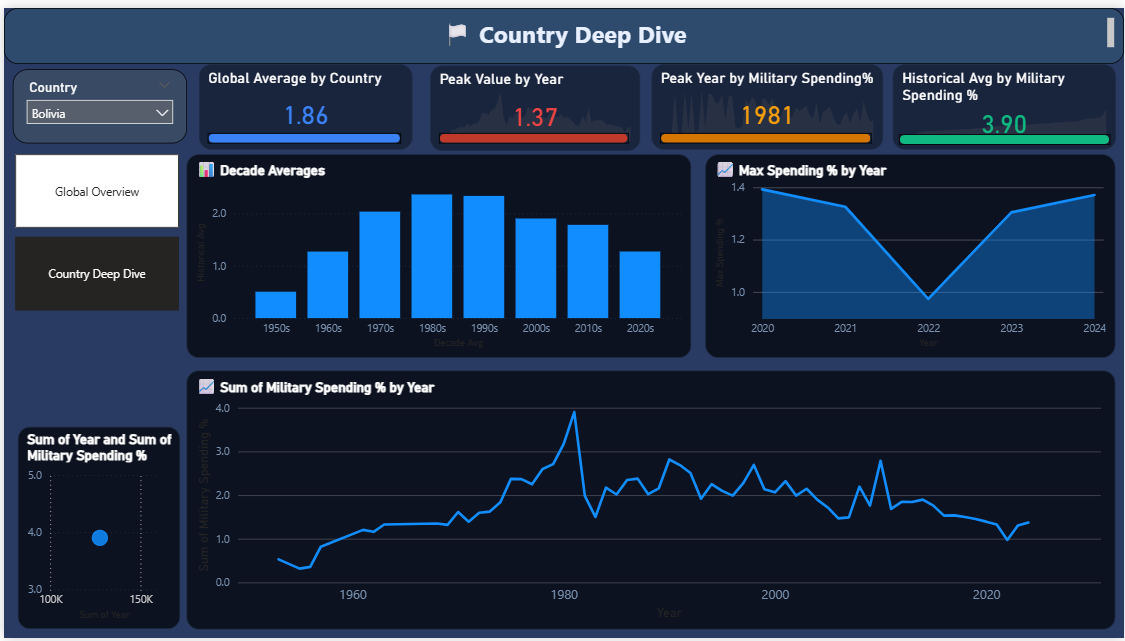

Layout of this report page (visuals, bound fields, positions):
{"tool":"powerbi","page":{"name":"Country Deep Dive","canvas":[1280,720],"ordinal":1},"visuals":[{"type":"textbox","box":[0,0,1280,64.3],"z":0},{"type":"kpi","fields":{"Indicator":["ap.Global Average"],"TrendLine":["ap.Country"]},"box":[222.3,64.5,244.3,97.4],"z":1000},{"type":"lineChart","title":"📈   Sum of Military Spending % by Year ","fields":{"Category":["ap.Year"],"Y":["Sum(ap.Military Spending %)"]},"box":[208.6,414.3,1061.4,296],"z":2000},{"type":"slicer","fields":{"Values":["ap.Country"]},"box":[13.3,71.2,199.1,85.7],"z":3000},{"type":"kpi","fields":{"Indicator":["ap.Peak Value"],"TrendLine":["ap.Year"]},"box":[487.1,65.9,240.1,97.4],"z":4000},{"type":"kpi","fields":{"Indicator":["ap.Historical Avg"],"TrendLine":["ap.Military Spending %"]},"box":[1015.4,64.5,255.2,97.4],"z":5000},{"type":"kpi","title":"Peak Year by Military Spending%","fields":{"Indicator":["ap.Peak Year"],"TrendLine":["ap.Military Spending %"]},"box":[739.6,64.5,264.8,97.4],"z":6000},{"type":"clusteredColumnChart","title":"📊 Decade Averages","fields":{"Category":["ap.Decade Avg"],"Y":["ap.Historical Avg"]},"box":[208.6,167.1,577.1,232.9],"z":7000},{"type":"areaChart","title":"📈   Max Spending % by Year","fields":{"Category":["ap.Year"],"Y":["ap.Max Spending %"]},"box":[801.4,167.1,468.6,232.9],"z":8000},{"type":"pageNavigator","box":[13.3,194.2,188.2,178.6],"z":9000},{"type":"shape","box":[233.3,142.7,220.9,12.3],"z":11000},{"type":"shape","box":[496.7,142.7,216.8,12.3],"z":12000},{"type":"shape","box":[750.6,142.7,241.5,12.3],"z":13000},{"type":"shape","box":[1022.3,144.1,241.5,12.3],"z":14000},{"type":"textbox","title":"QUICK FACTS","box":[6,452.4,195.4,181],"z":14001}]}

Visuals, with their boxes in screenshot pixels (x1, y1, x2, y2), scaled from the page's 1280x720 canvas onto the 1125x641 screenshot:
textbox: <bbox>0, 0, 1124, 57</bbox>
kpi - ap.Global Average x ap.Country: <bbox>195, 57, 410, 144</bbox>
"📈   Sum of Military Spending % by Year " lineChart: <bbox>183, 369, 1116, 632</bbox>
slicer - ap.Country: <bbox>12, 63, 187, 140</bbox>
kpi - ap.Peak Value x ap.Year: <bbox>428, 59, 639, 145</bbox>
kpi - ap.Historical Avg x ap.Military Spending %: <bbox>892, 57, 1117, 144</bbox>
"Peak Year by Military Spending%" kpi: <bbox>650, 57, 883, 144</bbox>
"📊 Decade Averages" clusteredColumnChart: <bbox>183, 149, 691, 356</bbox>
"📈   Max Spending % by Year" areaChart: <bbox>704, 149, 1116, 356</bbox>
pageNavigator: <bbox>12, 173, 177, 332</bbox>
shape: <bbox>205, 127, 399, 138</bbox>
shape: <bbox>437, 127, 627, 138</bbox>
shape: <bbox>660, 127, 872, 138</bbox>
shape: <bbox>899, 128, 1111, 139</bbox>
"QUICK FACTS" textbox: <bbox>5, 403, 177, 564</bbox>
